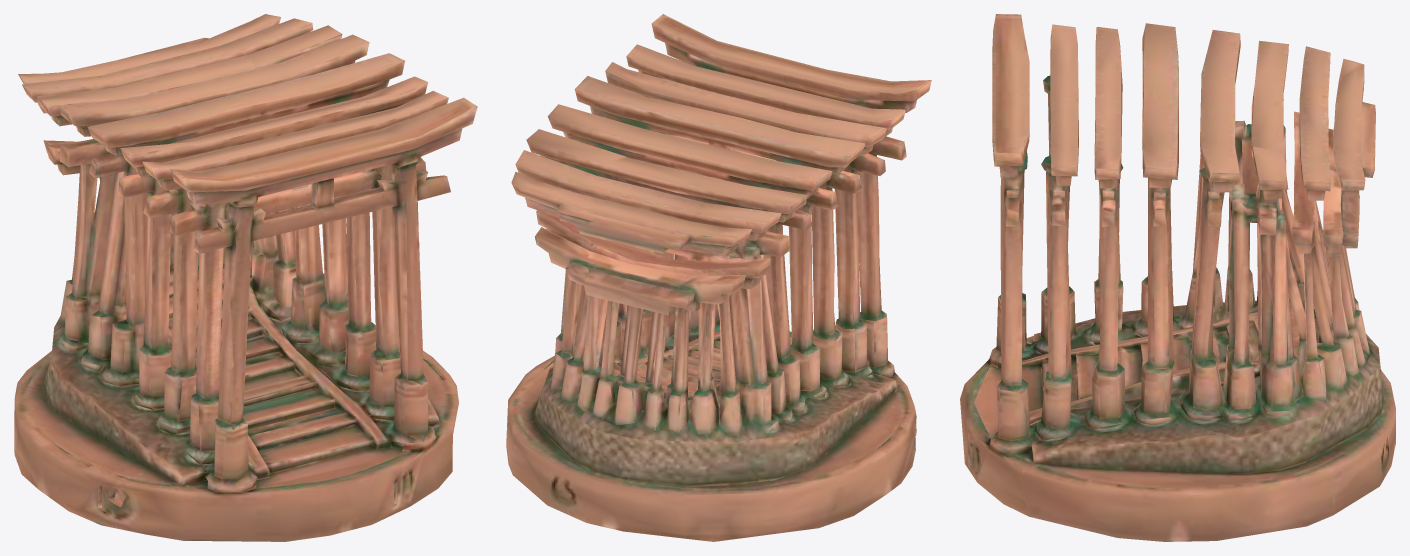
The model's file is fushimi_inari.glb.
The picture shows the model from 3 angles, left to right: view 1: azimuth 30°, elevation 25°; view 2: azimuth 150°, elevation 25°; view 3: azimuth 270°, elevation 25°; orthographic projection. The views are drawn at different scales.
Visible parts, largest first — view 1: Mesh_0; view 2: Mesh_0; view 3: Mesh_0.
Boxes of the visible parts, x1,y1,x2,y2 form: Mesh_0: (14,14,477,541); Mesh_0: (506,14,931,541); Mesh_0: (960,14,1395,541).
Size of the model in its own units: 1.91 by 1.78 by 1.9.
1 material, 1 textured.
